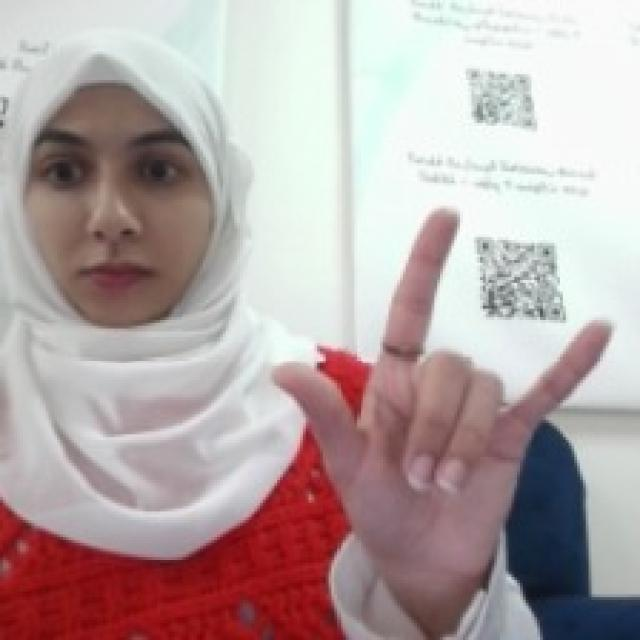love: (263, 191, 614, 580)
